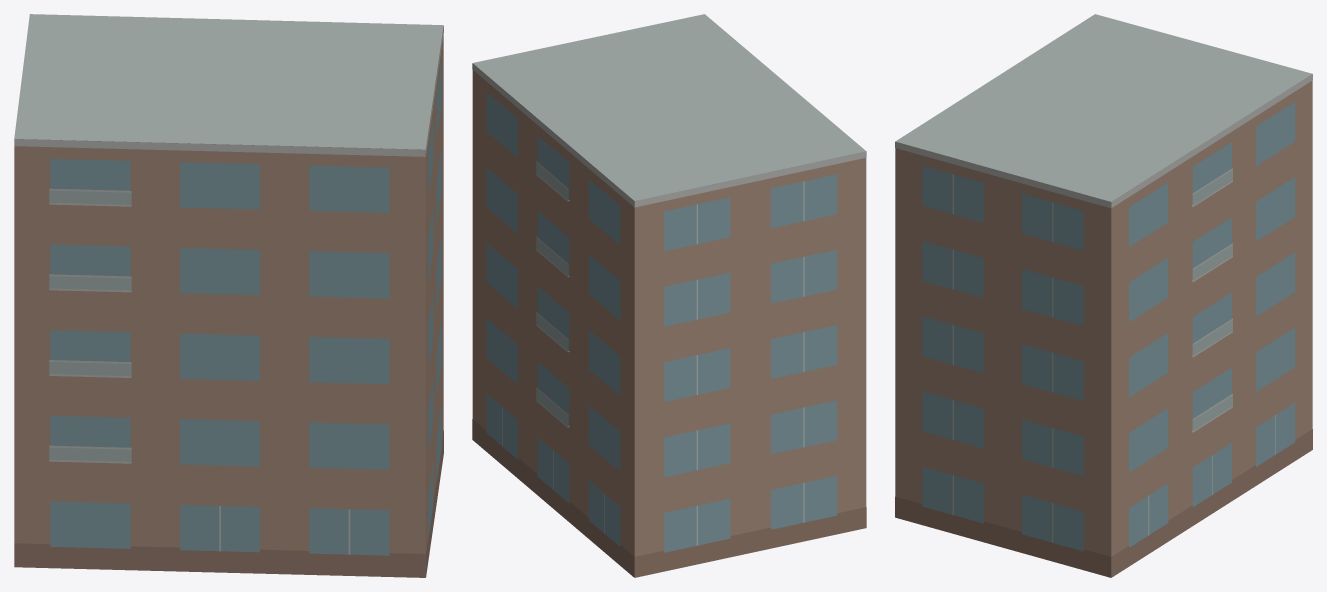
Rendered from survey-upis-32719199.glb.
3 renders of one model, left to right at view 1: azimuth 30°, elevation 25°; view 2: azimuth 150°, elevation 25°; view 3: azimuth 270°, elevation 25°, orthographic. The views are drawn at different scales.
Visible parts, largest first — view 1: survey-upis-32719199.tmp; view 2: survey-upis-32719199.tmp; view 3: survey-upis-32719199.tmp.
Part boxes in pixels (x1=…): survey-upis-32719199.tmp: x1=14, y1=14, x2=443, y2=577; survey-upis-32719199.tmp: x1=472, y1=14, x2=866, y2=577; survey-upis-32719199.tmp: x1=895, y1=14, x2=1312, y2=577.
Bounding box in the file's own units: 15.34 × 14.3 × 14.41.
